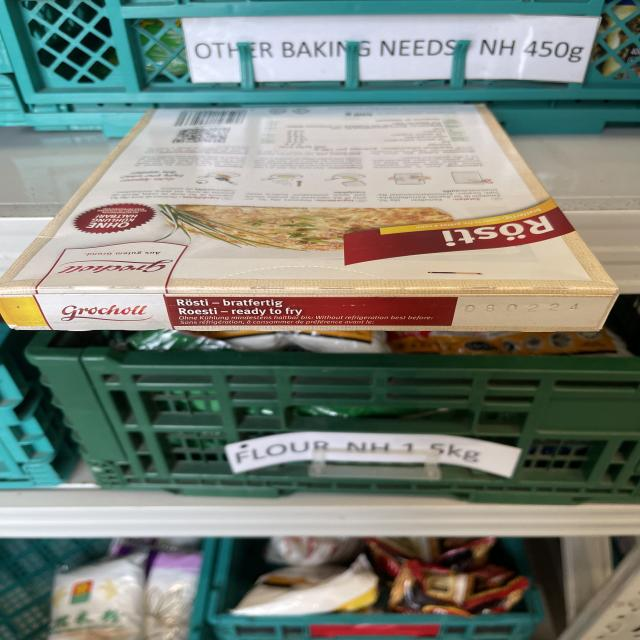object_name: (12, 111, 612, 338)
